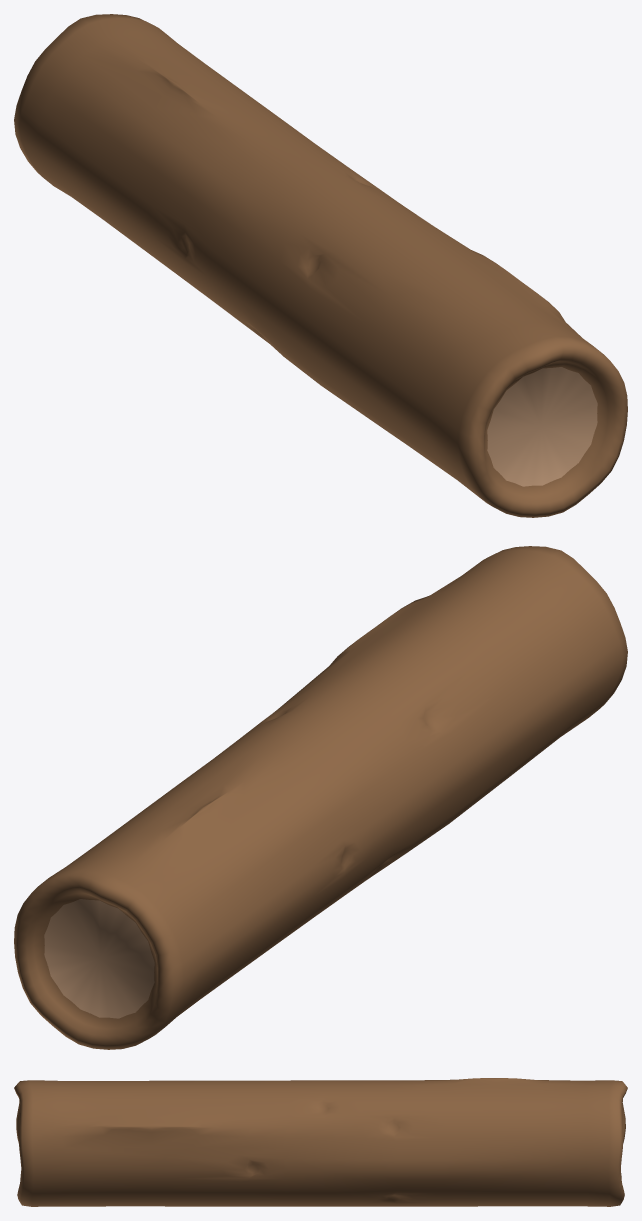
Rendered from Fix_Log.fbx.
The picture shows the model from 3 angles, top to bottom: view 1: azimuth 30°, elevation 25°; view 2: azimuth 150°, elevation 25°; view 3: azimuth 270°, elevation 25°; orthographic projection. The views are drawn at different scales.
Visible parts, largest first — view 1: Log; view 2: Log; view 3: Log.
Part boxes in pixels (<box>): Log: <box>14,14,627,517</box>; Log: <box>14,546,627,1049</box>; Log: <box>14,1078,627,1206</box>.
Bounding box in the file's own units: 128 × 128 × 601.
1 material, 1 textured.
